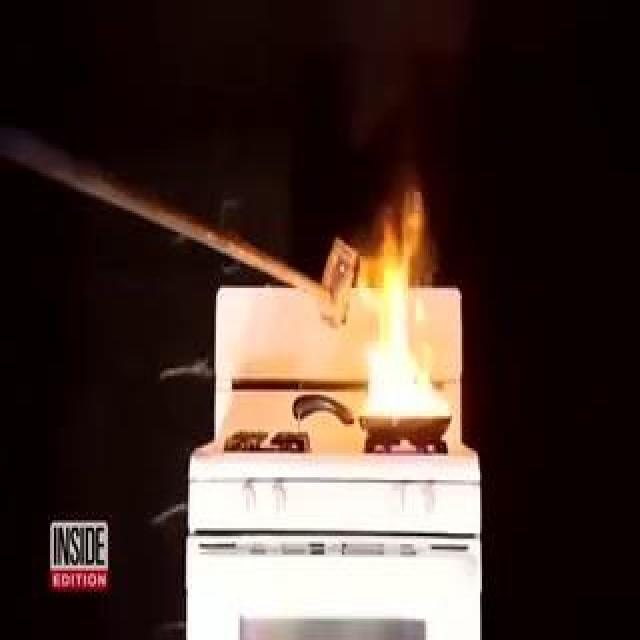Fire: (354, 213, 442, 435)
